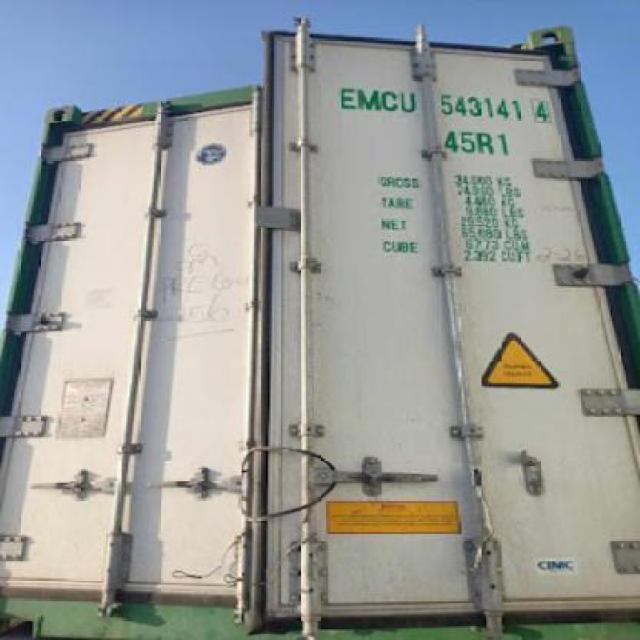ISO: (444, 128, 510, 156)
container_number: (341, 91, 548, 120)
